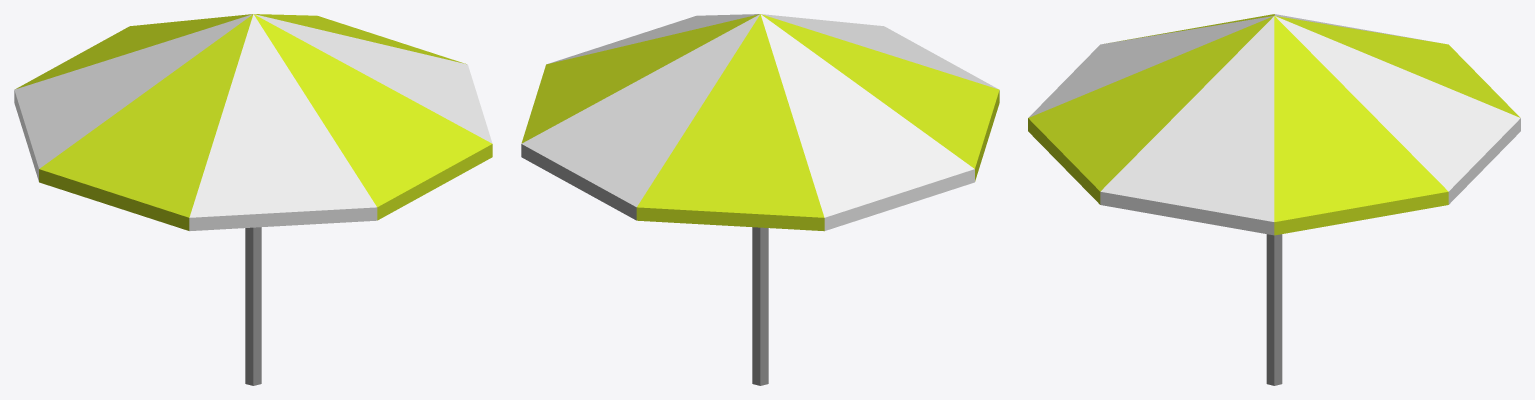
File: Umbrella2.fbx
3 views of the same model, side by side, from view 1: azimuth 30°, elevation 25°; view 2: azimuth 150°, elevation 25°; view 3: azimuth 270°, elevation 25° (orthographic).
Visible parts, largest first — view 1: Umbrella; view 2: Umbrella; view 3: Umbrella.
Part boxes in pixels (x1,y1,x2,y2): Umbrella: (14, 14, 492, 385); Umbrella: (521, 14, 999, 385); Umbrella: (1028, 14, 1520, 385).
Bounding box in the file's own units: 249 × 204 × 249.
